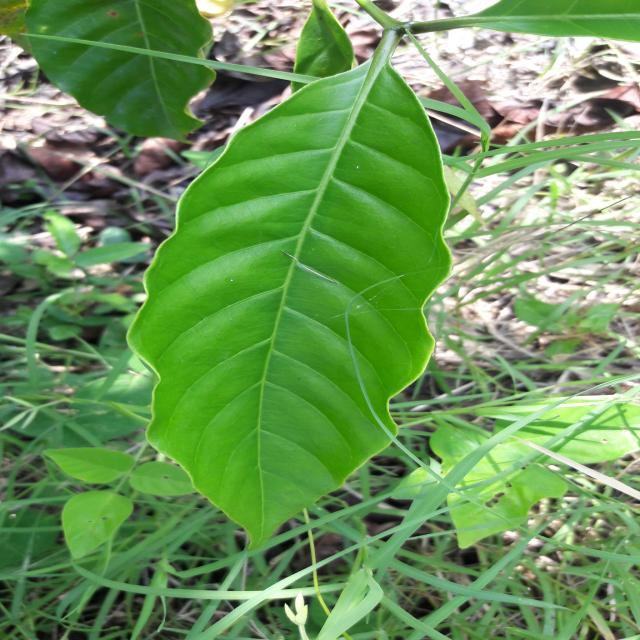Sanas: (127, 44, 453, 545)
